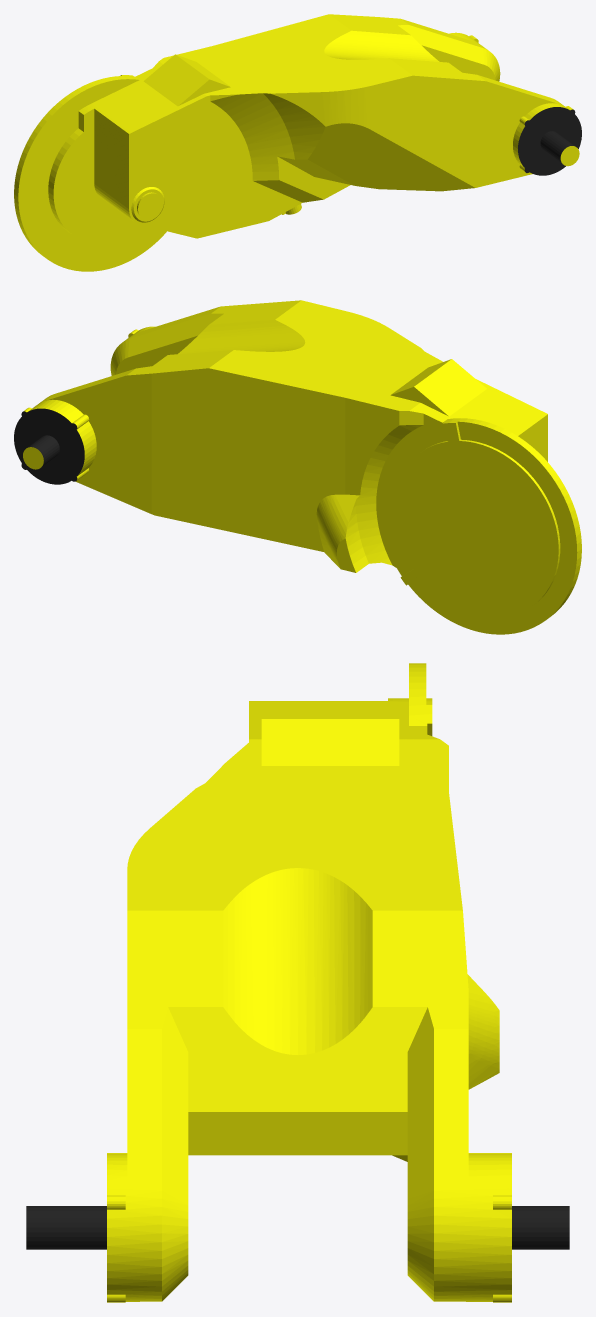
The picture shows the model from 3 angles, top to bottom: view 1: azimuth 30°, elevation 25°; view 2: azimuth 150°, elevation 25°; view 3: azimuth 270°, elevation 25°; orthographic projection. The views are drawn at different scales.
Visible parts, largest first — view 1: node; view 2: node; view 3: node.
Part boxes in pixels (x1=…): node: x1=14, y1=14, x2=581, y2=271; node: x1=14, y1=300, x2=581, y2=634; node: x1=26, y1=663, x2=569, y2=1302.
Bounding box in the file's own units: 1492 × 587 × 719.
